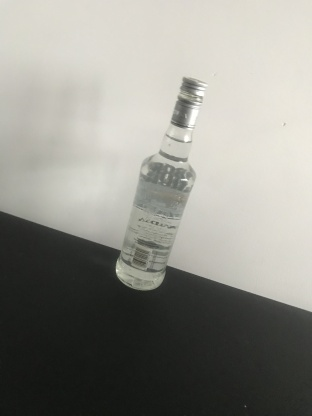nakretka: (169, 74, 208, 131)
